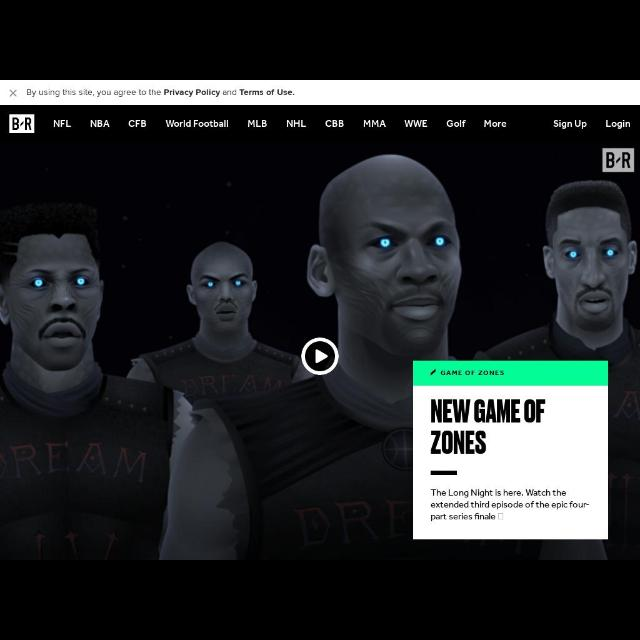backgroundimage: (1, 138, 640, 560)
button: (302, 336, 338, 374)
icon: (314, 351, 328, 363), (10, 89, 18, 97)
image: (603, 148, 633, 172), (10, 115, 34, 134), (430, 370, 436, 374)
multitab: (51, 118, 509, 130)
text: (432, 400, 546, 454), (432, 488, 588, 520), (27, 89, 295, 95), (166, 120, 228, 128), (441, 370, 503, 376), (554, 120, 588, 128), (404, 118, 428, 126), (484, 119, 508, 127), (606, 120, 630, 128), (287, 119, 307, 128), (364, 120, 386, 128), (324, 119, 344, 127), (53, 120, 71, 128), (249, 118, 267, 126), (447, 120, 467, 126), (92, 120, 110, 126), (129, 120, 147, 126)
toolbar: (552, 118, 632, 128)
